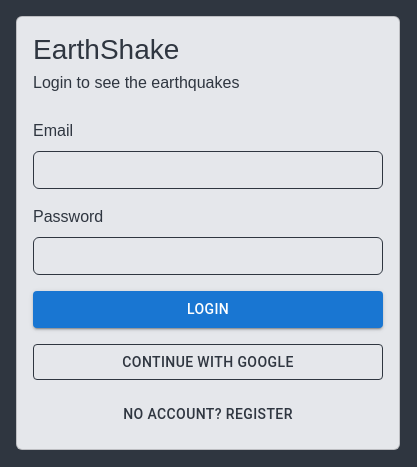
Login › switches to register mode
Click the button "No account? Register": (208, 414) [33,396,383,432]
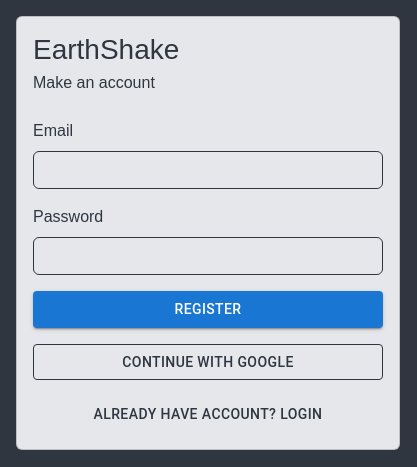
Expected: the button "Register" is shown, [33,291,383,328]
